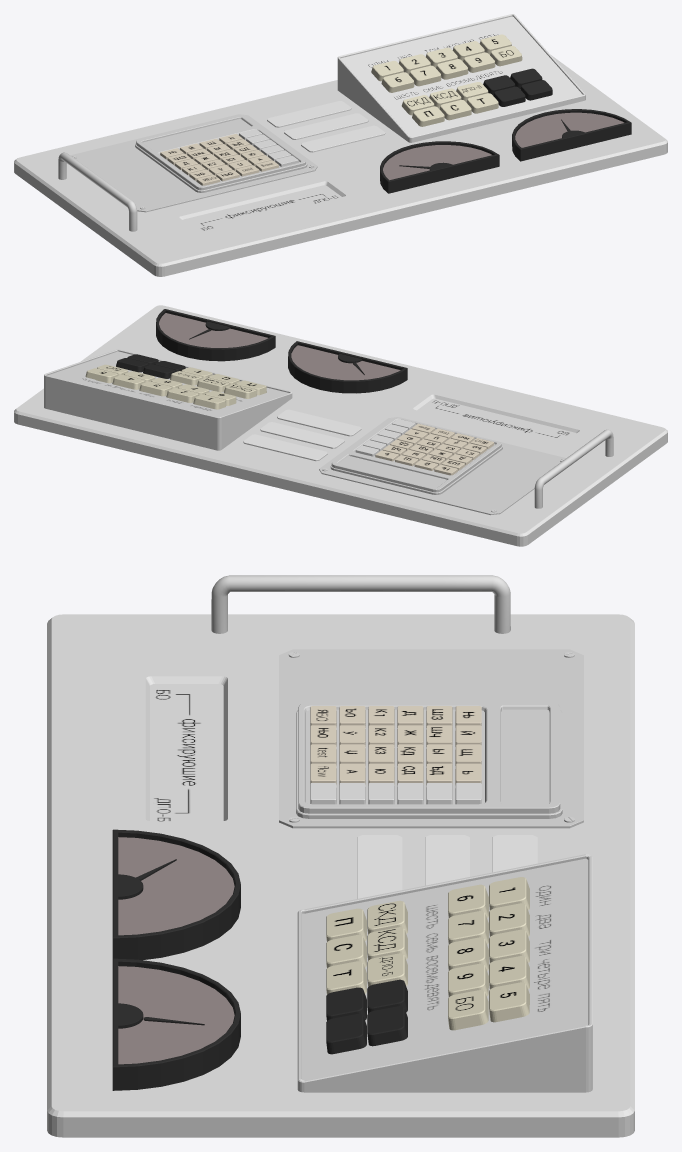
Rendered from panel_test3.fbx.
3 views of the same model, one above another, from view 1: azimuth 30°, elevation 25°; view 2: azimuth 150°, elevation 25°; view 3: azimuth 270°, elevation 25° (orthographic). The views are drawn at different scales.
Visible parts, largest first — view 1: handle.001; view 2: handle.001; view 3: handle.001.
Boxes of the visible parts, bbox=[...] form: handle.001: bbox=[14, 14, 667, 276]; handle.001: bbox=[14, 305, 667, 546]; handle.001: bbox=[47, 575, 634, 1137].
Size of the model in its own units: 71.3 by 5.99 by 35.37.
